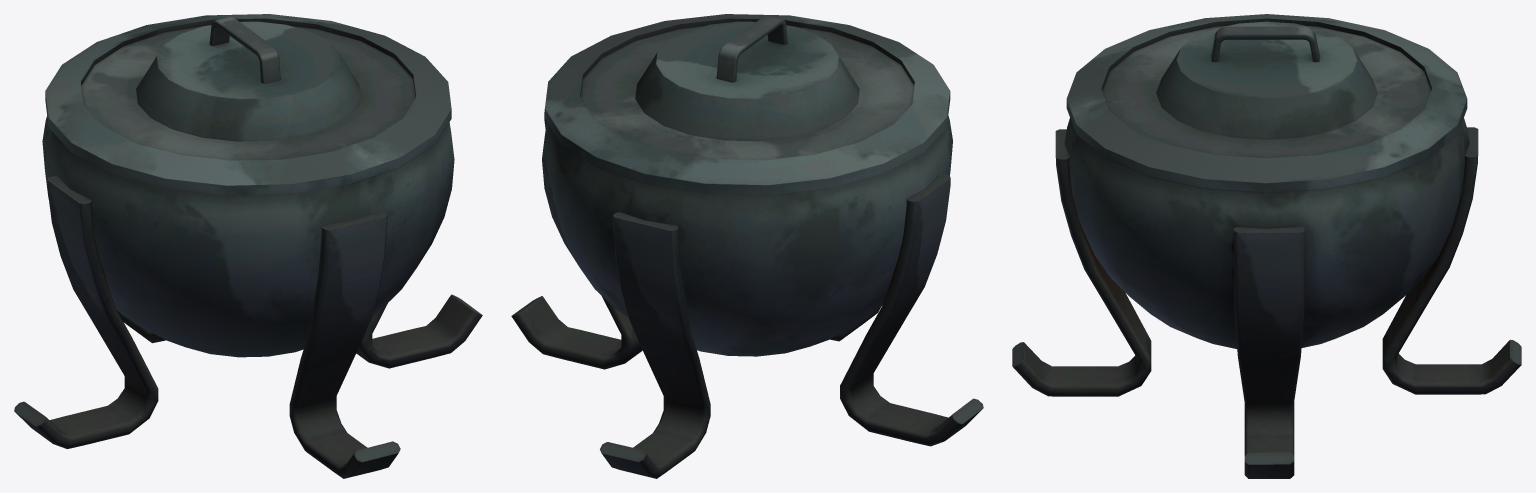
File: SM_Cauldron_02.gltf
3 views of the same model, side by side, from view 1: azimuth 30°, elevation 25°; view 2: azimuth 150°, elevation 25°; view 3: azimuth 270°, elevation 25° (orthographic).
Visible parts, largest first — view 1: SM_Cauldron_02; view 2: SM_Cauldron_02; view 3: SM_Cauldron_02.
Part boxes in pixels (left/top/right/bottom): SM_Cauldron_02: left=14, top=14, right=482, bottom=478; SM_Cauldron_02: left=511, top=14, right=983, bottom=478; SM_Cauldron_02: left=1012, top=14, right=1521, bottom=478.
Bounding box in the file's own units: 0.8102 × 0.6222 × 0.8102.
1 material, 1 textured.
